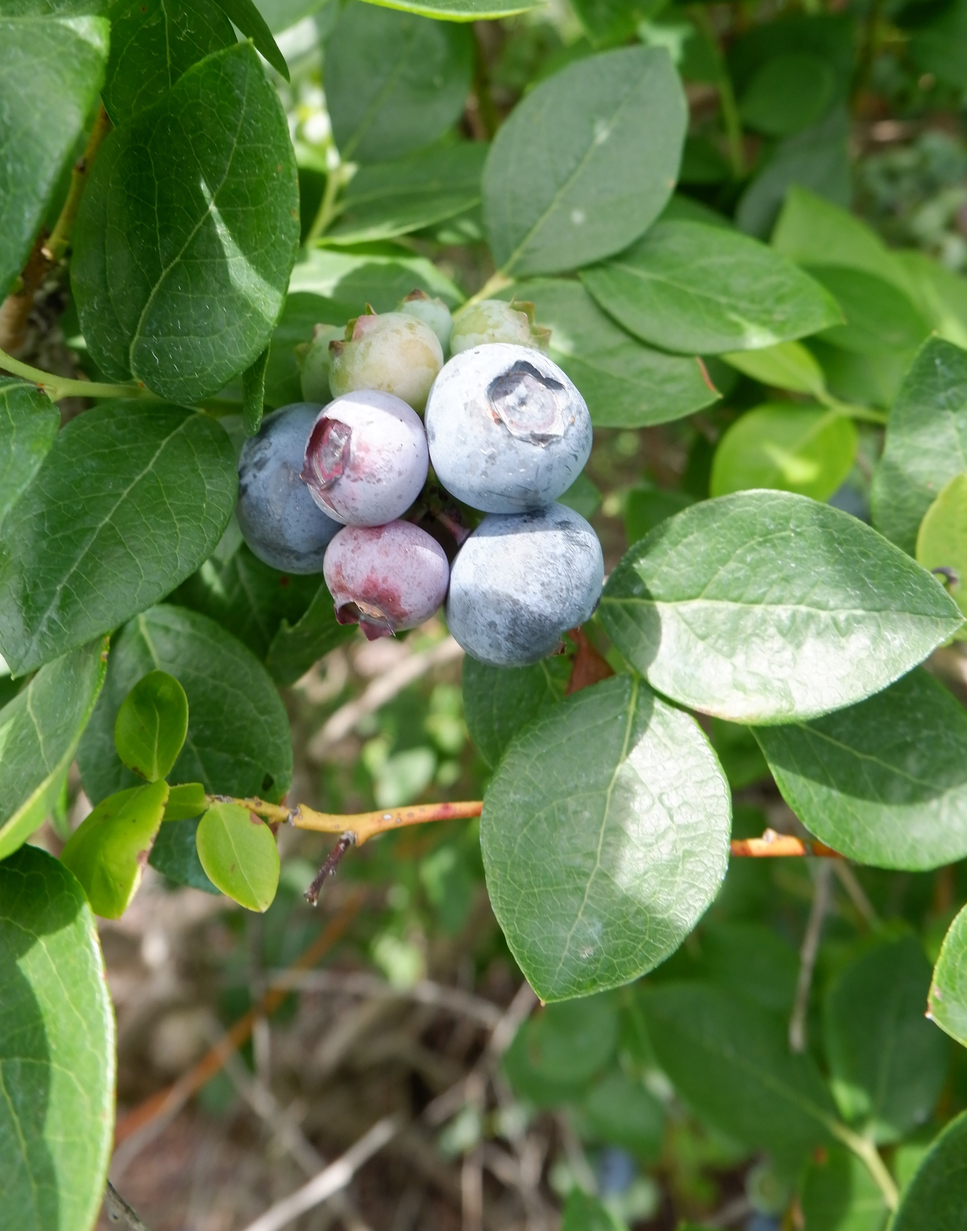Immature: (304, 393, 425, 522), (325, 522, 447, 636), (328, 313, 442, 417), (450, 301, 550, 358), (394, 290, 450, 363), (296, 325, 347, 405)
Mature: (425, 345, 590, 514), (446, 506, 603, 664), (237, 404, 340, 574)
